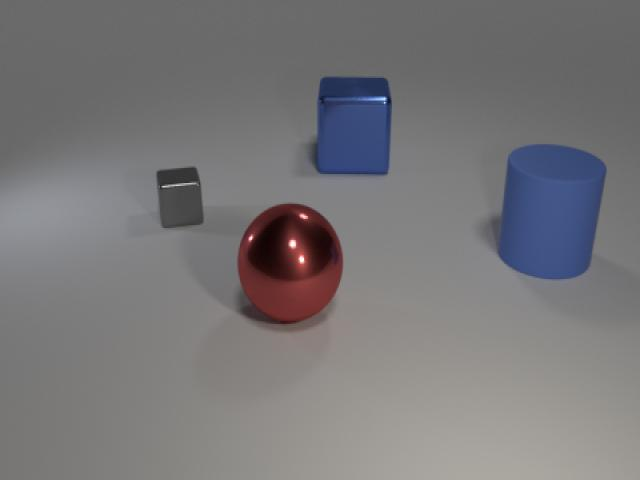cylinder: (492, 132, 610, 283)
round ball: (229, 194, 347, 330)
